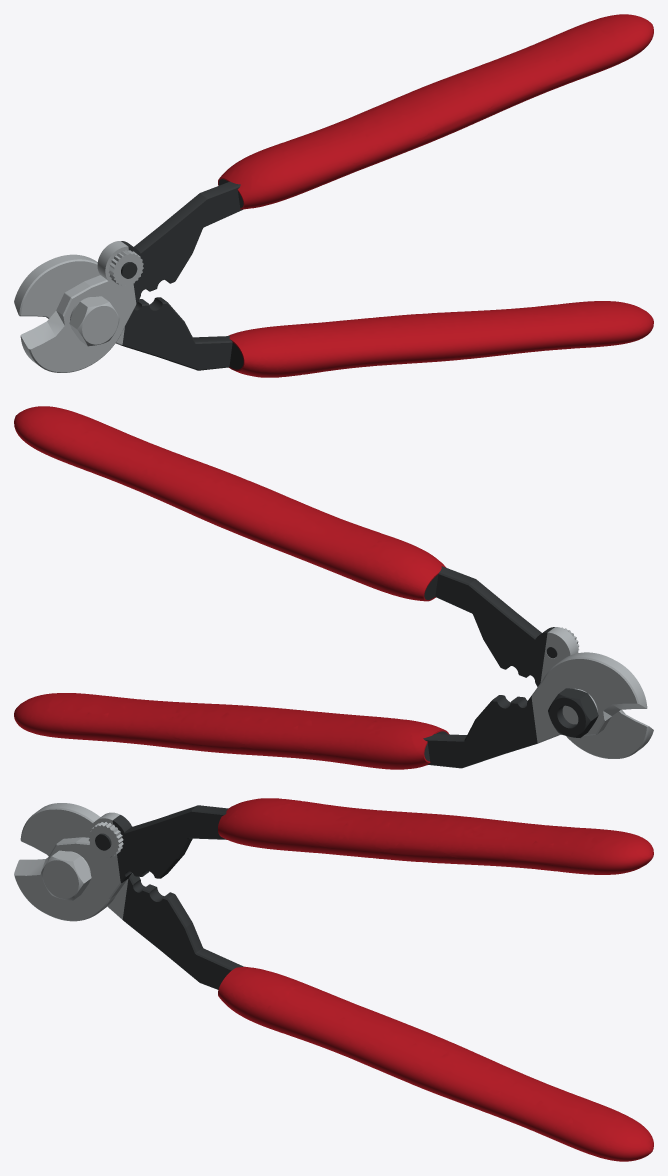
The model's file is knipex_9561190_wire_rope_cutter_open.glb.
3 renders of one model, top to bottom at view 1: azimuth 30°, elevation 25°; view 2: azimuth 150°, elevation 25°; view 3: azimuth 330°, elevation 25°, orthographic.
Parts seen in each view (by area): view 1: upper_plastic_grip, lower_plastic_grip, upper_polished_jaw, upper_forged_arm, lower_forged_arm, lower_polished_jaw, main_pivot_bolt, retainer_wheel; view 2: upper_plastic_grip, lower_plastic_grip, upper_forged_arm, lower_polished_jaw, lower_forged_arm, upper_polished_jaw, main_pivot_nut; view 3: lower_plastic_grip, upper_plastic_grip, lower_forged_arm, upper_forged_arm, upper_polished_jaw, lower_polished_jaw, main_pivot_bolt, retainer_wheel.
Boxes of the visible parts, <box> form: upper_plastic_grip: <box>218,14,653,209</box>; lower_plastic_grip: <box>228,301,653,377</box>; upper_polished_jaw: <box>20,241,136,372</box>; upper_forged_arm: <box>121,179,243,304</box>; lower_forged_arm: <box>122,297,243,370</box>; lower_polished_jaw: <box>14,254,124,345</box>; main_pivot_bolt: <box>69,296,119,346</box>; retainer_wheel: <box>108,250,143,286</box>; upper_plastic_grip: <box>14,406,446,601</box>; lower_plastic_grip: <box>14,693,448,769</box>; upper_forged_arm: <box>424,566,554,686</box>; lower_polished_jaw: <box>531,652,647,743</box>; lower_forged_arm: <box>423,695,537,768</box>; upper_polished_jaw: <box>540,627,653,758</box>; main_pivot_nut: <box>548,688,598,737</box>; lower_plastic_grip: <box>218,966,653,1161</box>; upper_plastic_grip: <box>218,798,653,874</box>; lower_forged_arm: <box>122,873,243,989</box>; upper_forged_arm: <box>112,805,228,883</box>; upper_polished_jaw: <box>14,812,127,921</box>; lower_polished_jaw: <box>20,803,128,919</box>; main_pivot_bolt: <box>41,850,91,900</box>; retainer_wheel: <box>88,822,123,857</box>.
Size of the model in its own units: 0.1857 by 0.0892 by 0.02.
